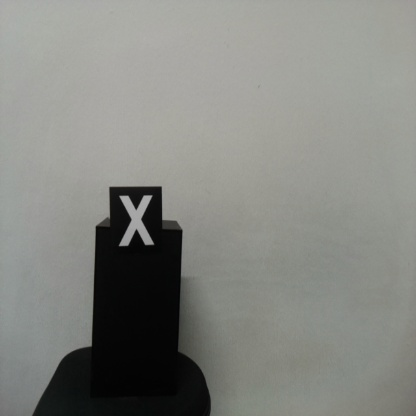id_13: (108, 185, 164, 258)
